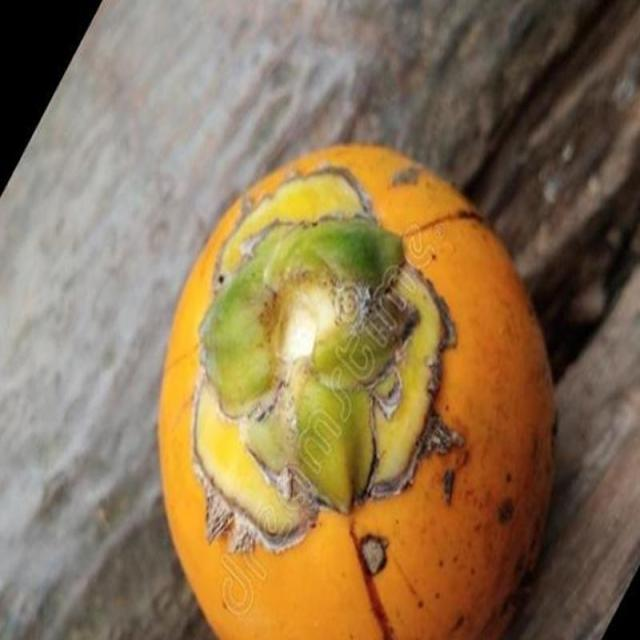good: (156, 153, 553, 639)
